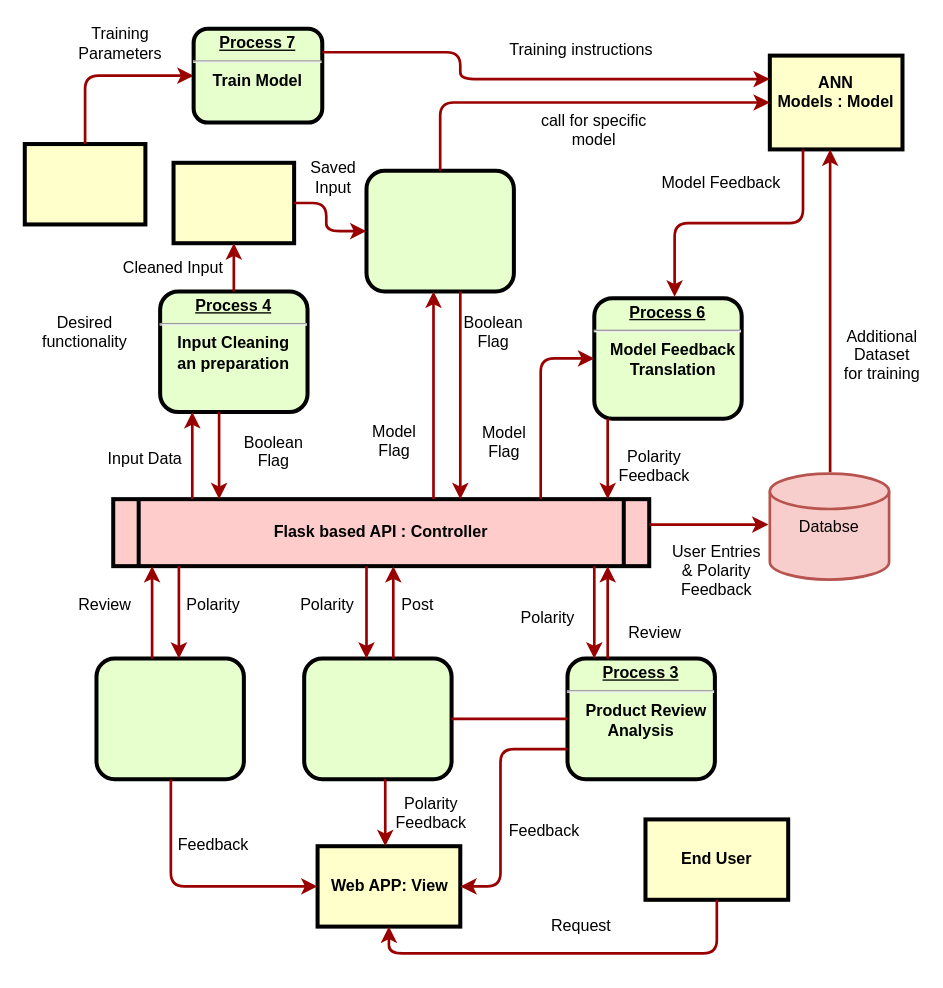
Some shapes in this 943 by 988 pixel diagram are drawn without their labels. Here are the shapes that lost their labels. From the top down, the centre of each, then its label:
At (84,183): "Administrator".
At (233,202): "File System".
At (439,230): "Process 5 Sentiment Analysis".
At (169,718): "Process 1 Movie Review Analysis".
At (377,718): "Process 2 Tweet / FB Comment Analysis".
